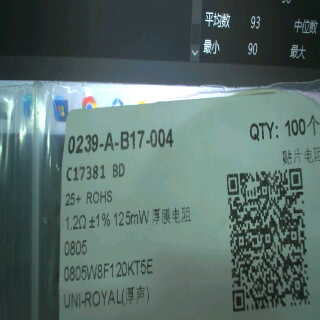1.2R: (61, 216, 90, 258)
